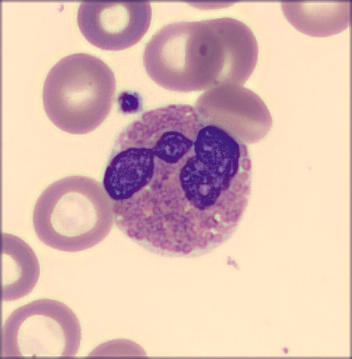EO: (105, 104, 252, 260)
PLT: (116, 89, 144, 116)
RBC: (30, 175, 114, 254), (41, 52, 120, 132), (141, 20, 225, 94), (184, 18, 258, 94), (194, 83, 273, 145), (2, 298, 81, 359), (74, 1, 156, 52), (278, 1, 352, 39), (1, 232, 40, 302), (86, 336, 149, 359)
